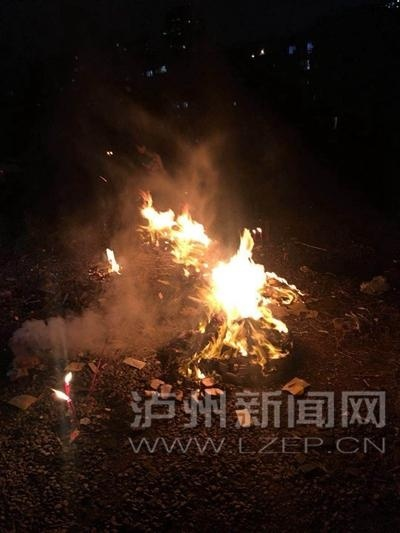fire: (135, 190, 295, 357)
